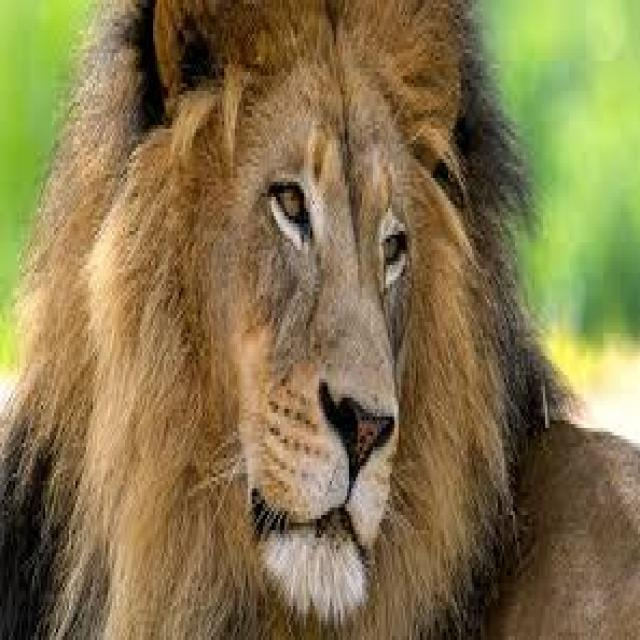Lion: (0, 0, 638, 636)
